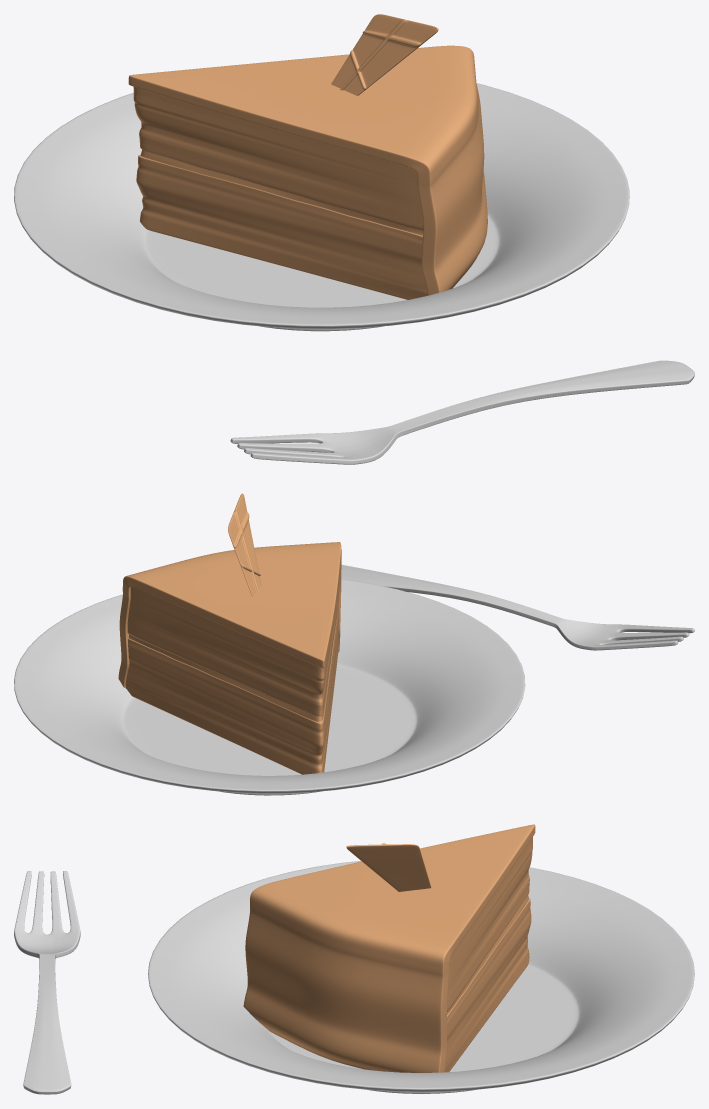
File: pieceofcake.glb
3 renders of one model, top to bottom at view 1: azimuth 30°, elevation 25°; view 2: azimuth 150°, elevation 25°; view 3: azimuth 270°, elevation 25°, orthographic. The views are drawn at different scales.
Parts seen in each view (by area): view 1: Cake, Plate, Fork; view 2: Plate, Cake, Fork; view 3: Cake, Plate, Fork.
Part boxes in pixels (left/top/right/bottom): Cake: left=128, top=14, right=487, bottom=299; Plate: left=14, top=83, right=629, bottom=331; Fork: left=230, top=360, right=694, bottom=464; Plate: left=14, top=579, right=525, bottom=795; Cake: left=118, top=493, right=341, bottom=774; Fork: left=341, top=565, right=694, bottom=650; Cake: left=243, top=824, right=535, bottom=1072; Plate: left=148, top=861, right=694, bottom=1093; Fork: left=14, top=871, right=80, bottom=1094.
Bounding box in the file's own units: 0.1617 × 0.0669 × 0.1925.
